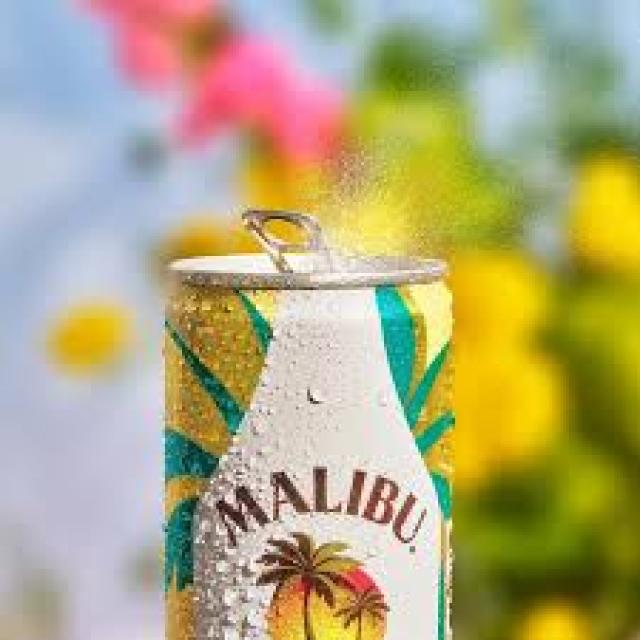Cans: (154, 242, 466, 640)
